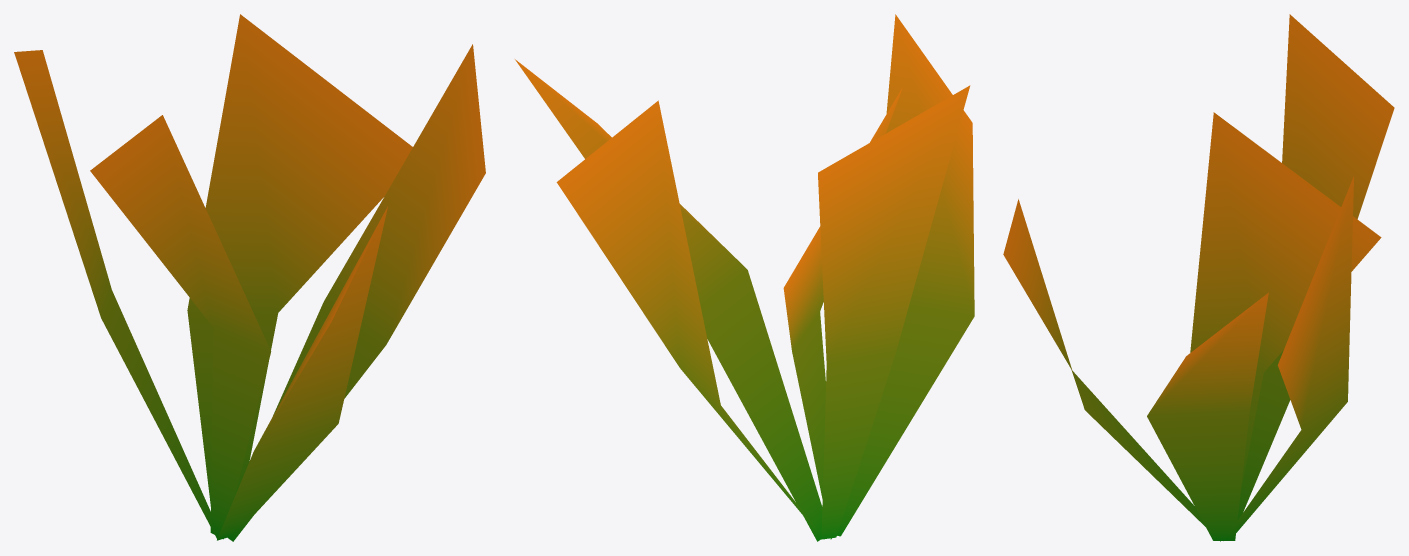
File: Common Eelgrass_LOD3_Var3_sjglk.fbx
3 renders of one model, left to right at view 1: azimuth 30°, elevation 25°; view 2: azimuth 150°, elevation 25°; view 3: azimuth 270°, elevation 25°, orthographic. The views are drawn at different scales.
Parts seen in each view (by area): view 1: _8fcf_Var3_LOD3; view 2: _8fcf_Var3_LOD3; view 3: _8fcf_Var3_LOD3.
Part boxes in pixels (bbox=[...]): _8fcf_Var3_LOD3: bbox=[14, 14, 485, 541]; _8fcf_Var3_LOD3: bbox=[515, 14, 974, 541]; _8fcf_Var3_LOD3: bbox=[1003, 14, 1394, 541].
Bounding box in the file's own units: 50.5 × 54.12 × 42.69.
